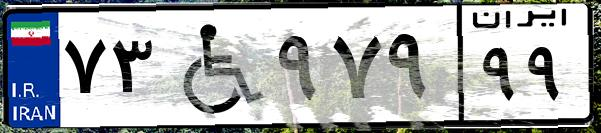3: (110, 28, 158, 98)
7: (330, 28, 385, 110), (57, 26, 110, 100)
9: (270, 28, 330, 110), (385, 28, 445, 110), (475, 38, 525, 113), (525, 38, 570, 115)
ژ (معلولین و جانبازان): (158, 12, 270, 120)
